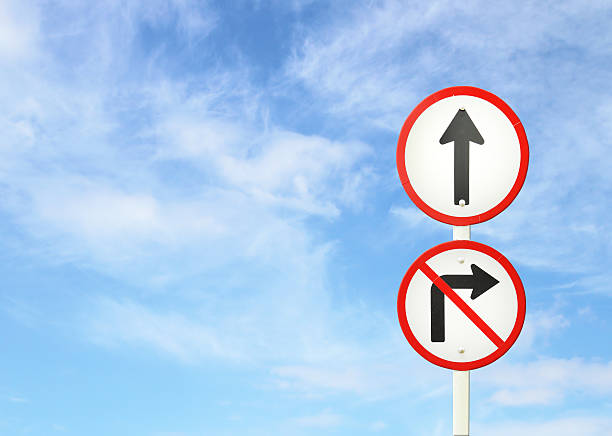saga_donulmez: (398, 241, 523, 371)
